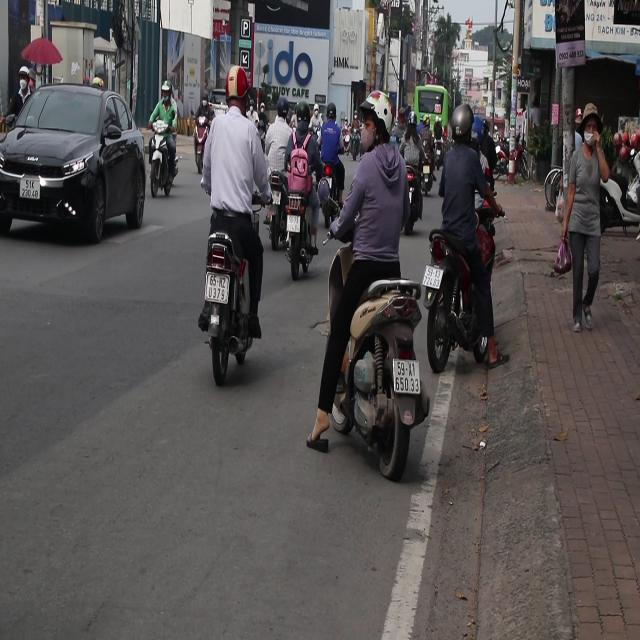bus: (413, 74, 457, 136)
car: (1, 81, 149, 242)
motorbike: (333, 271, 433, 480), (421, 227, 516, 378), (204, 231, 253, 368), (276, 178, 317, 279), (152, 122, 188, 211), (312, 159, 345, 225), (265, 168, 282, 237), (199, 113, 214, 177), (394, 170, 414, 218), (432, 136, 448, 173), (419, 162, 435, 198)
